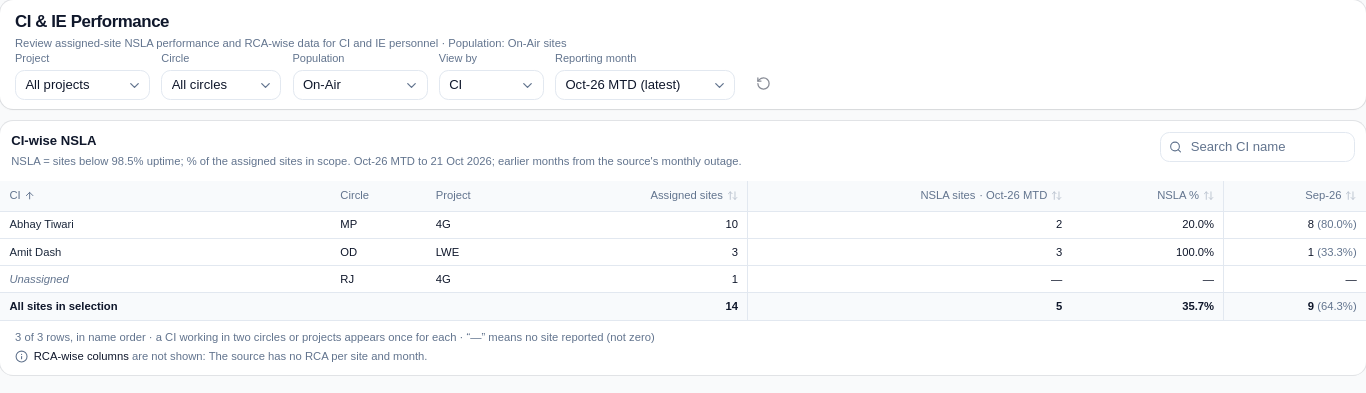
Scenario: CiIePerformancePage › sorts a numeric column on request, keeping missing values last, and searches by name
Click the button "NSLA %" at (1186, 196), box [1157, 188, 1214, 203]
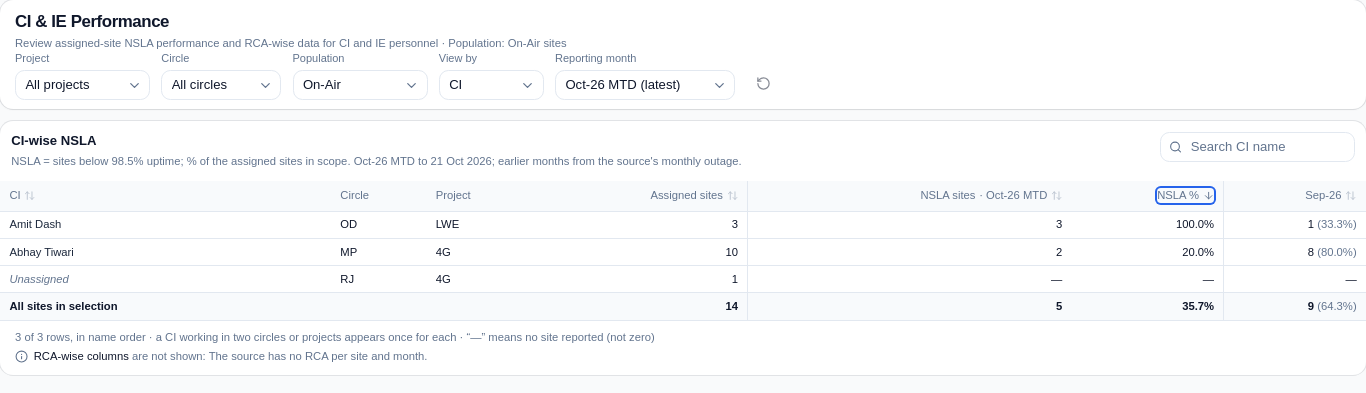
Type "abhay" into the search field named "Search CIs by name" at (1257, 147), box [1160, 132, 1355, 162]
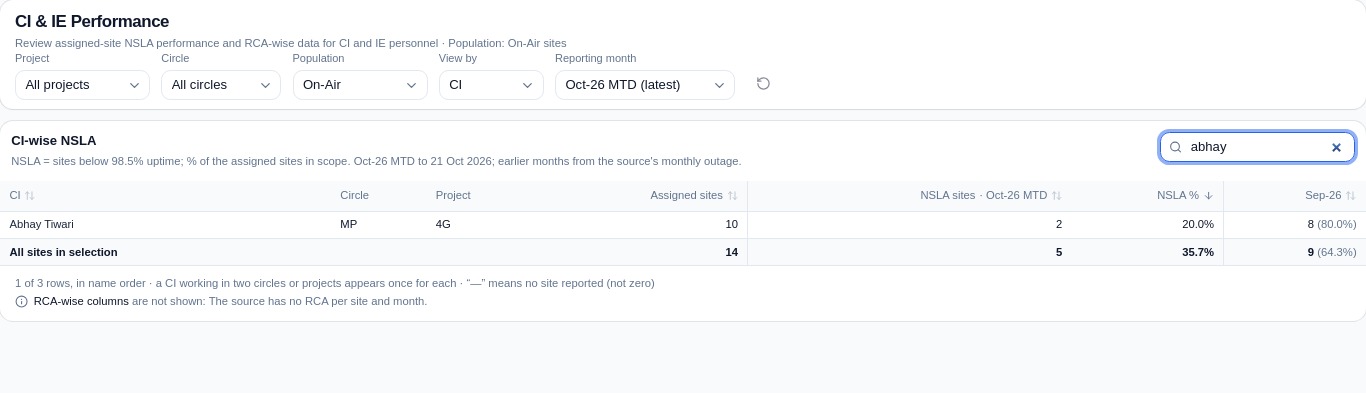
Replace the text in the search field named "Search CIs by name" with "nobody" at (1257, 147), box [1160, 132, 1355, 162]
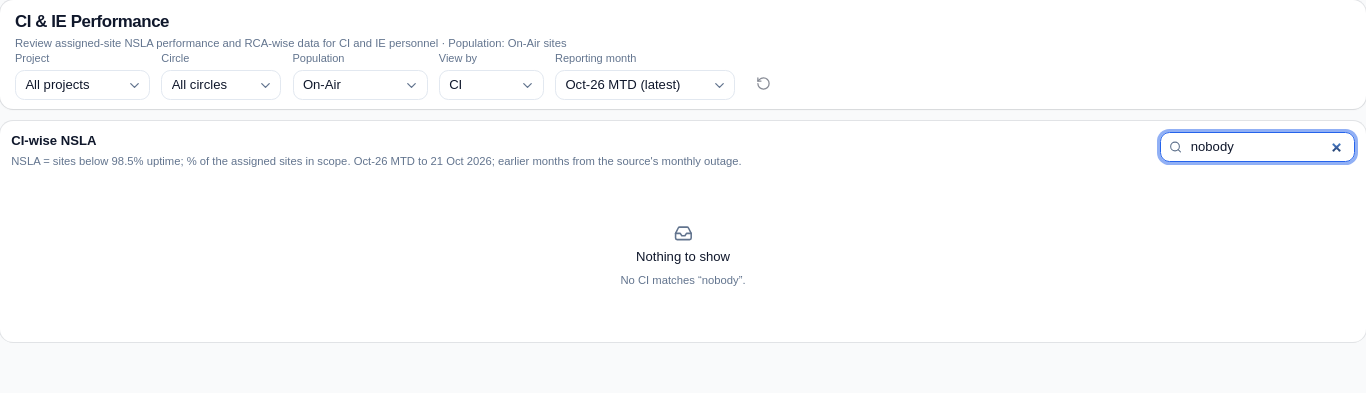
Expected: the text "No CI matches “nobody”." is shown, [620, 273, 746, 288]
